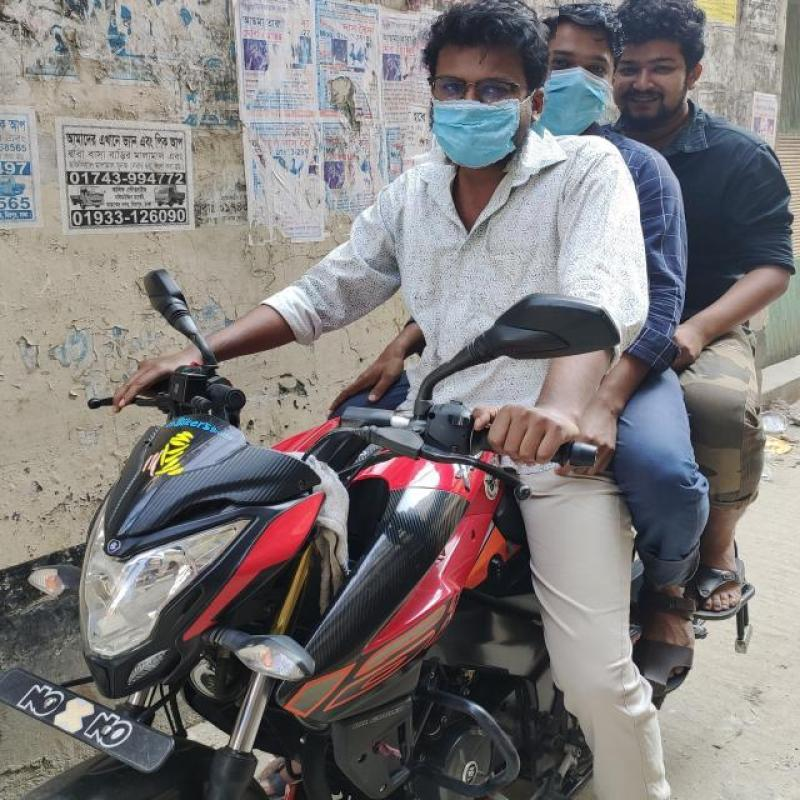nohelmet: (407, 0, 554, 171), (606, 2, 726, 130)
